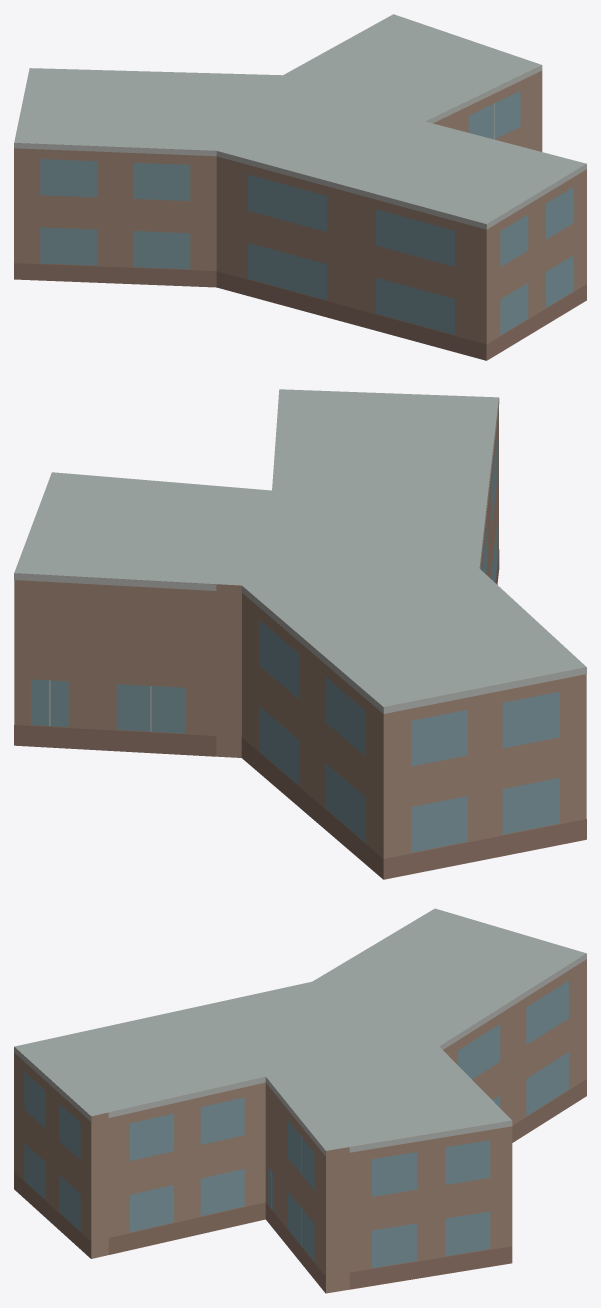
The model's file is survey-upis-33041379.glb.
3 renders of one model, top to bottom at view 1: azimuth 30°, elevation 25°; view 2: azimuth 150°, elevation 25°; view 3: azimuth 270°, elevation 25°, orthographic. The views are drawn at different scales.
Visible parts, largest first — view 1: survey-upis-33041379.tmp; view 2: survey-upis-33041379.tmp; view 3: survey-upis-33041379.tmp.
Boxes of the visible parts, left/top/right/bottom form: survey-upis-33041379.tmp: left=14, top=14, right=586, bottom=360; survey-upis-33041379.tmp: left=14, top=389, right=586, bottom=879; survey-upis-33041379.tmp: left=14, top=908, right=586, bottom=1293.
Size of the model in its own units: 22.24 by 6.1 by 22.21.
